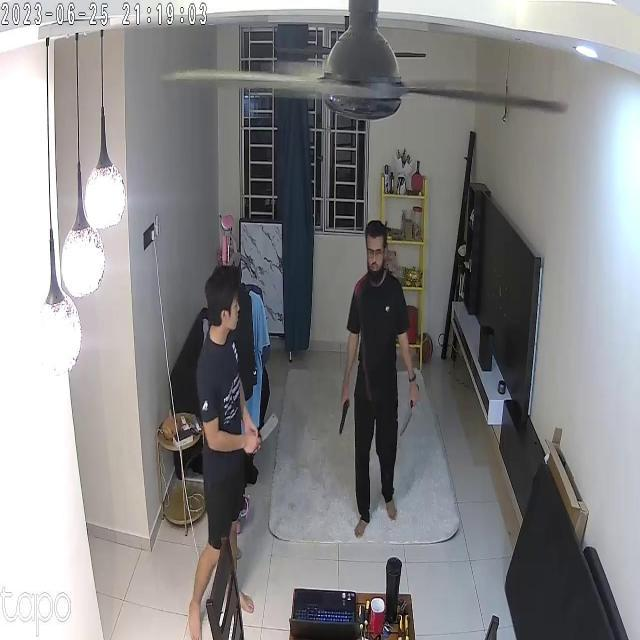Gun: (330, 381, 358, 443)
Knife: (394, 392, 428, 448), (253, 400, 287, 449)
